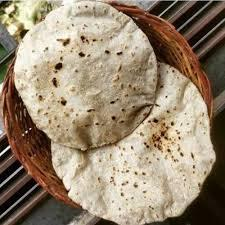bhakri: (30, 15, 194, 209)
